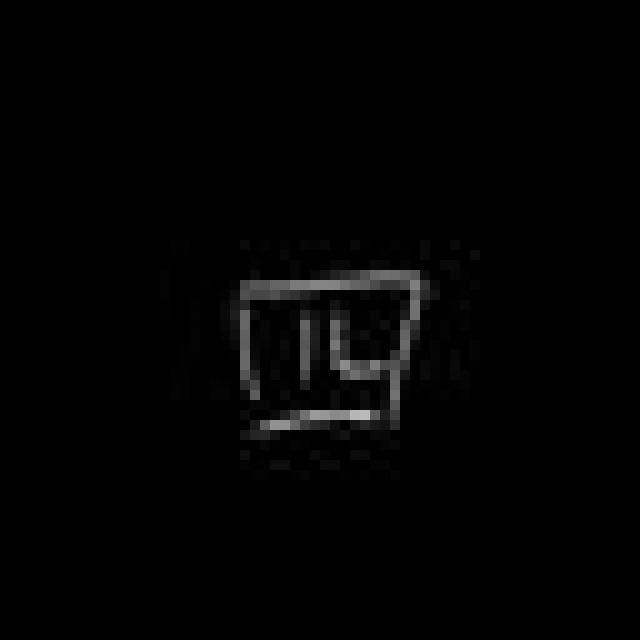4 -four-: (214, 259, 448, 448)
